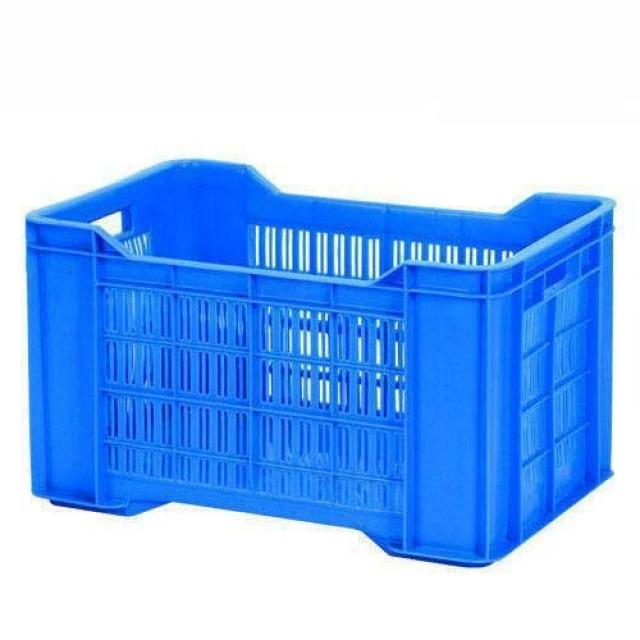basket: (0, 145, 639, 580)
